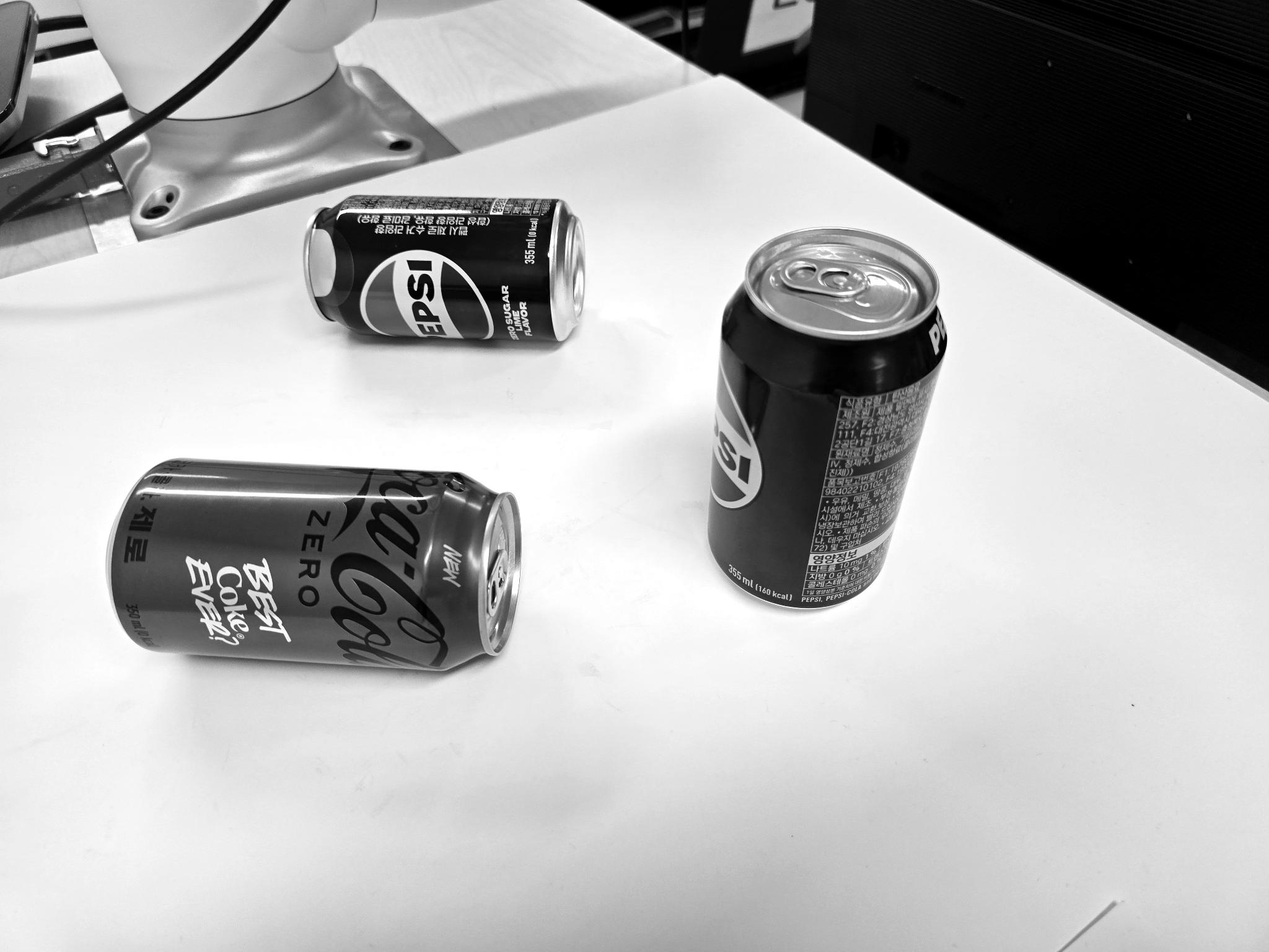can_coke_zero: (102, 453, 527, 684)
can_pepsi: (705, 229, 952, 614)
can_pepsi_zero: (299, 194, 583, 349)
